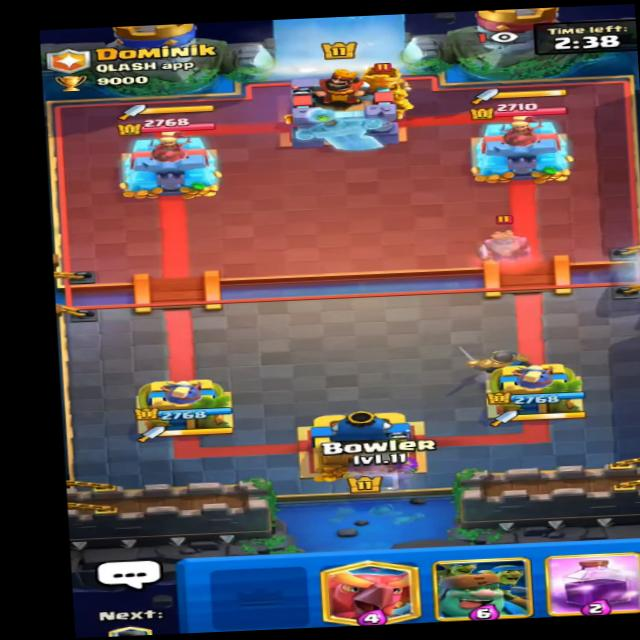royal-ghost: (473, 216, 533, 268)
